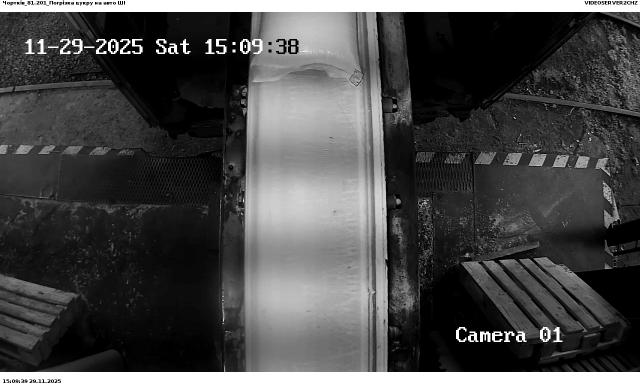bag: (251, 13, 363, 87)
